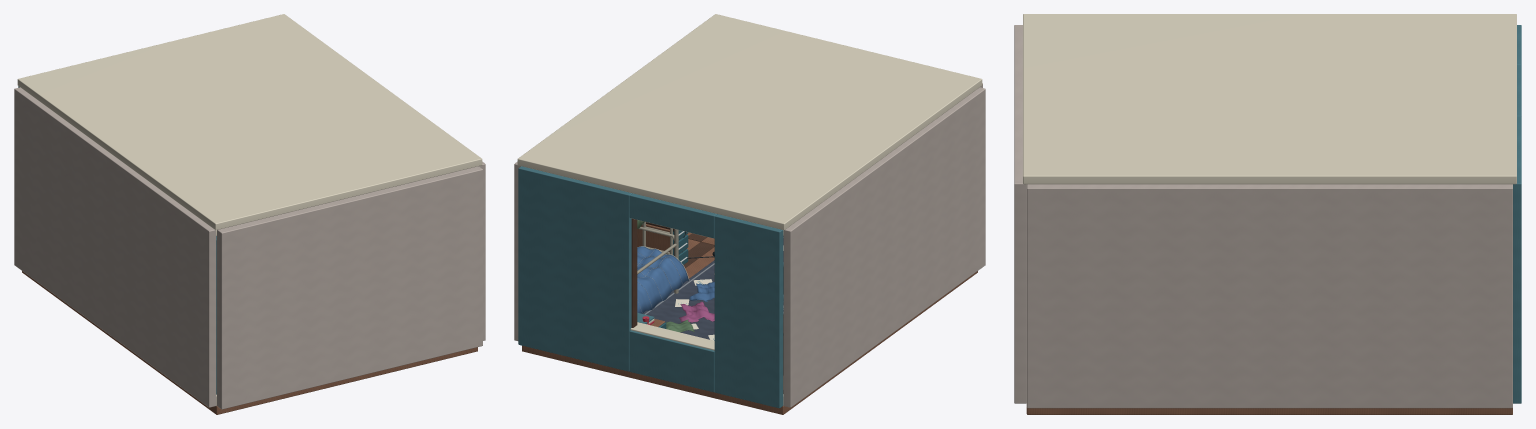
The model's file is room-draft.glb.
3 views of the same model, side by side, from view 1: azimuth 30°, elevation 25°; view 2: azimuth 150°, elevation 25°; view 3: azimuth 270°, elevation 25° (orthographic). The views are drawn at different scales.
Visible parts, largest first — view 1: Room_Static__plaster, Ceiling removable for overhead review, Room_Static__wood; view 2: Ceiling removable for overhead review, Room_Static__teal, Room_Static__plaster, Room_Static__wood, Lower blue quilt, Woven center rug, Room_Static__edge, Room_Static__cream, Bunk_Bed__metal, Right pedestal carcase, Room_Static__purple; view 3: Room_Static__plaster, Ceiling removable for overhead review, Room_Static__wood, Room_Static__teal.
Part boxes in pixels (box(x1,y1,x2,y2)): Room_Static__plaster: box(14, 87, 485, 409); Ceiling removable for overhead review: box(17, 14, 482, 230); Room_Static__wood: box(22, 271, 477, 414); Ceiling removable for overhead review: box(517, 14, 982, 230); Room_Static__teal: box(518, 166, 783, 408); Room_Static__plaster: box(514, 83, 985, 407); Room_Static__wood: box(522, 232, 977, 414); Lower blue quilt: box(637, 246, 688, 313); Woven center rug: box(643, 236, 783, 339); Room_Static__edge: box(631, 218, 783, 393); Room_Static__cream: box(630, 218, 783, 405); Bunk_Bed__metal: box(637, 222, 678, 293); Right pedestal carcase: box(637, 224, 686, 252); Room_Static__purple: box(679, 301, 714, 322); Room_Static__plaster: box(1014, 25, 1512, 408); Ceiling removable for overhead review: box(1023, 14, 1516, 184); Room_Static__wood: box(1026, 407, 1512, 414); Room_Static__teal: box(1513, 25, 1521, 403).
Size of the model in its own units: 5.08 by 3.39 by 6.47.
Materials: 26 (12 with a texture image).
